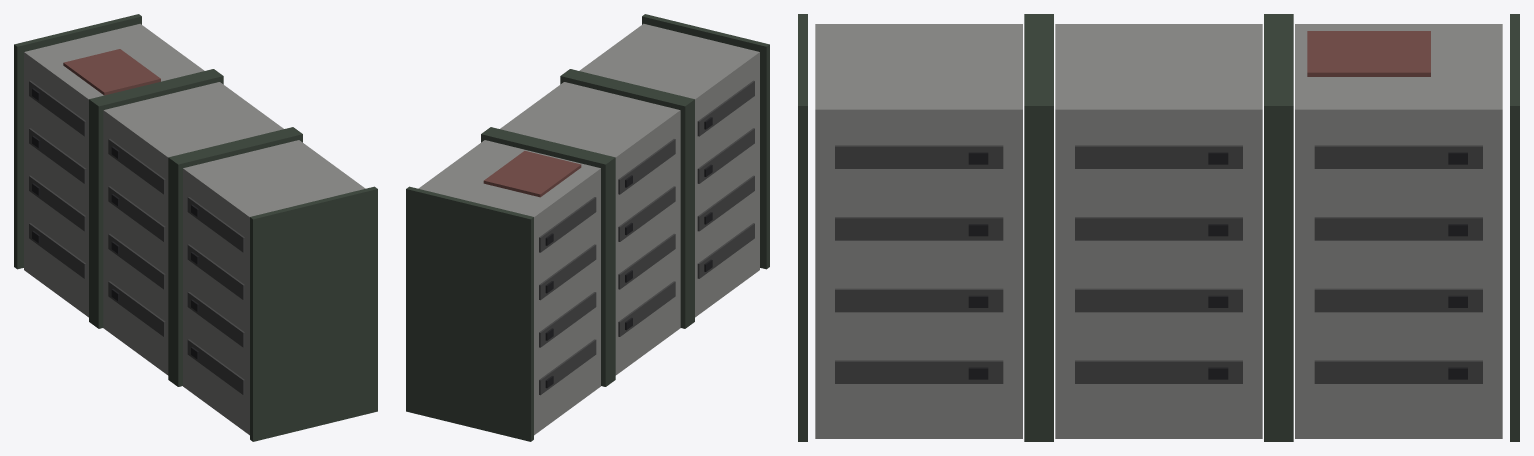
The model's file is oc_system_rack.obj.
3 views of the same model, side by side, from view 1: azimuth 30°, elevation 25°; view 2: azimuth 150°, elevation 25°; view 3: azimuth 270°, elevation 25° (orthographic). The views are drawn at different scales.
Parts seen in each view (by area): view 1: oc_system_rack_51, oc_system_rack_0, oc_system_rack_17, oc_system_rack_34, oc_system_rack_53, oc_system_rack_52, oc_system_rack_54, oc_system_rack_55, oc_system_rack_20, oc_system_rack_24, oc_system_rack_18, oc_system_rack_22 (+8 smaller); view 2: oc_system_rack_54, oc_system_rack_17, oc_system_rack_0, oc_system_rack_34, oc_system_rack_52, oc_system_rack_53, oc_system_rack_51, oc_system_rack_55, oc_system_rack_41, oc_system_rack_3, oc_system_rack_7, oc_system_rack_37 (+8 smaller); view 3: oc_system_rack_0, oc_system_rack_17, oc_system_rack_34, oc_system_rack_52, oc_system_rack_53, oc_system_rack_55, oc_system_rack_51, oc_system_rack_54, oc_system_rack_11, oc_system_rack_45, oc_system_rack_28, oc_system_rack_9 (+8 smaller).
Boxes of the visible parts, x1,y1,x2,y2 form: oc_system_rack_51: (250,186,377,441); oc_system_rack_0: (183,140,365,435); oc_system_rack_17: (103,82,283,375); oc_system_rack_34: (24,23,204,317); oc_system_rack_53: (89,69,223,328); oc_system_rack_52: (168,127,302,386); oc_system_rack_54: (14,14,141,269); oc_system_rack_55: (63,49,160,95); oc_system_rack_20: (108,233,165,289); oc_system_rack_24: (108,139,165,194); oc_system_rack_18: (108,281,165,336); oc_system_rack_22: (108,186,165,241); oc_system_rack_54: (406,186,533,441); oc_system_rack_17: (500,82,680,375); oc_system_rack_0: (579,23,759,317); oc_system_rack_34: (418,140,600,435); oc_system_rack_52: (560,69,694,328); oc_system_rack_53: (481,127,615,386); oc_system_rack_51: (642,14,769,269); oc_system_rack_55: (483,151,581,197); oc_system_rack_41: (539,197,596,252); oc_system_rack_3: (697,175,754,231); oc_system_rack_7: (697,80,754,136); oc_system_rack_37: (539,292,596,347); oc_system_rack_0: (815,24,1022,438); oc_system_rack_17: (1055,24,1262,438); oc_system_rack_34: (1295,24,1502,438); oc_system_rack_52: (1024,14,1053,441); oc_system_rack_53: (1264,14,1293,441); oc_system_rack_55: (1307,31,1430,76); oc_system_rack_51: (798,14,807,441); oc_system_rack_54: (1510,14,1519,441); oc_system_rack_11: (835,288,1003,312); oc_system_rack_45: (1314,288,1482,312); oc_system_rack_28: (1075,288,1242,312); oc_system_rack_9: (835,360,1003,383).
Size of the model in its own units: 0.88 by 1.5 by 2.92.
